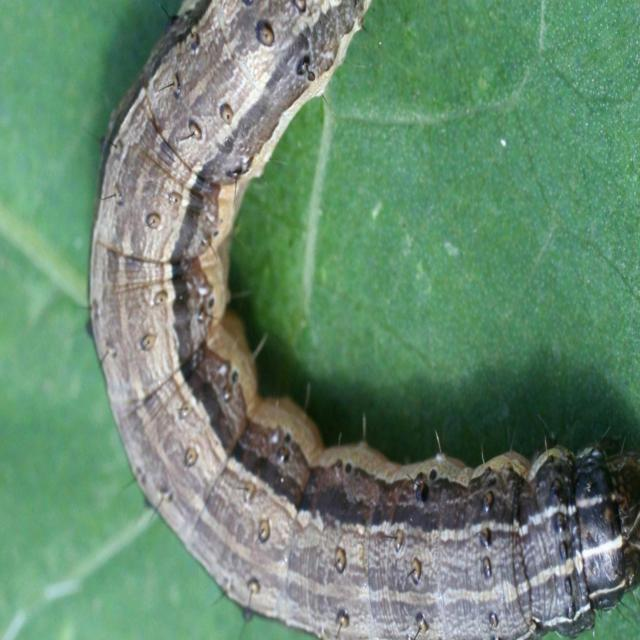armyworm: (86, 0, 638, 638)
